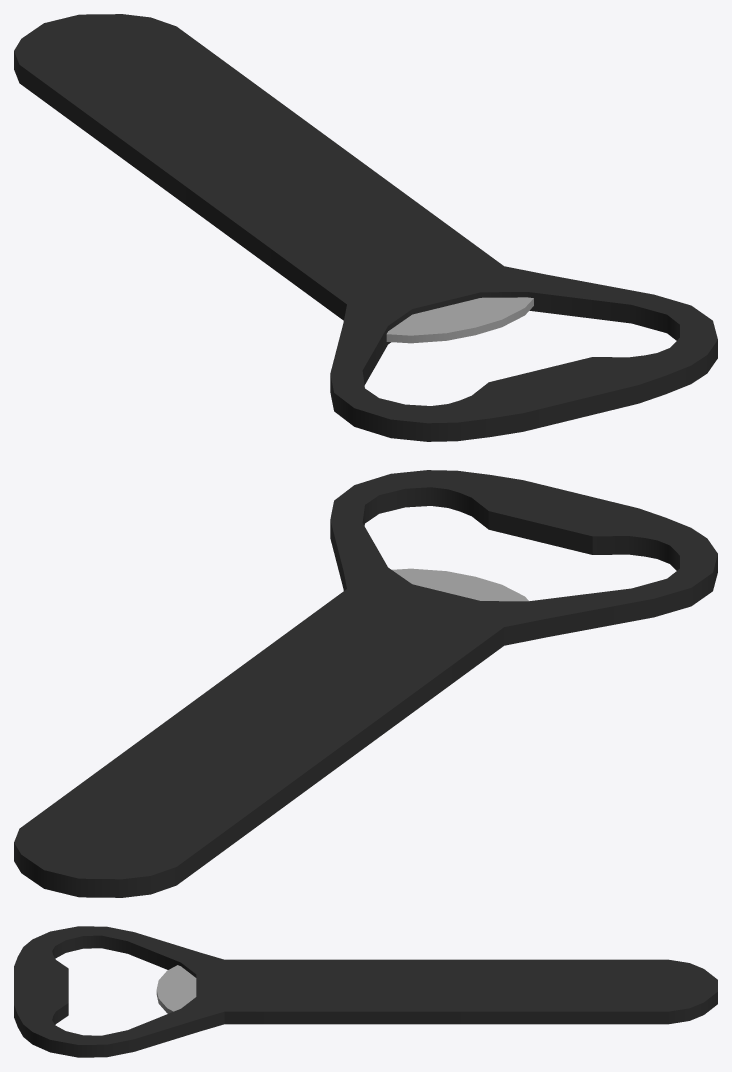
File: BottleOpener_01.fbx
3 views of the same model, one above another, from view 1: azimuth 30°, elevation 25°; view 2: azimuth 150°, elevation 25°; view 3: azimuth 270°, elevation 25° (orthographic). The views are drawn at different scales.
Parts seen in each view (by area): view 1: BottleOpener_01; view 2: BottleOpener_01; view 3: BottleOpener_01.
Part boxes in pixels (x1,y1,x2,y2): BottleOpener_01: (14, 14, 717, 441); BottleOpener_01: (14, 470, 717, 897); BottleOpener_01: (14, 926, 717, 1057).
Size of the model in its own units: 0.0459 by 0.00228 by 0.1151.
